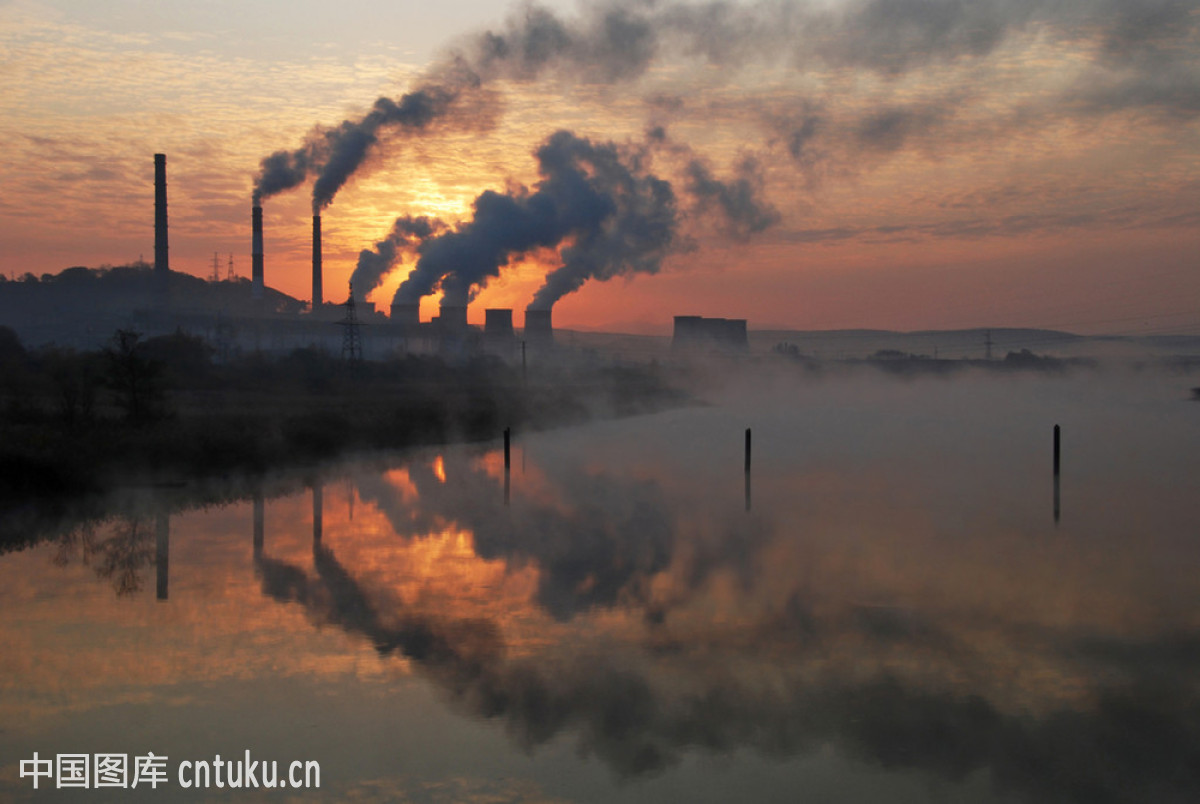dust: (515, 198, 724, 324), (298, 86, 414, 228), (433, 191, 539, 310), (384, 213, 449, 308), (242, 130, 298, 221), (342, 223, 401, 306)
